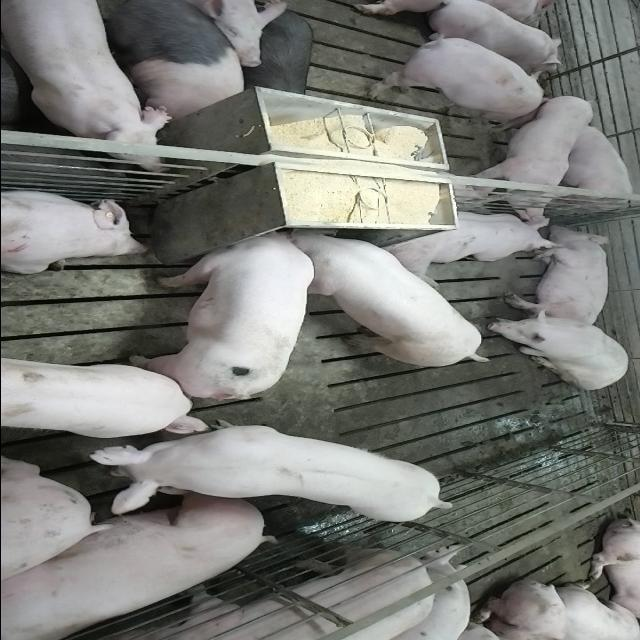Feeding: (128, 220, 314, 397), (283, 230, 497, 372)
Lateral_lying: (1, 475, 274, 636), (502, 224, 612, 328)
Sitting: (482, 310, 630, 390)
Standing: (1, 542, 442, 640), (66, 420, 450, 526), (0, 2, 175, 161), (82, 2, 248, 122), (0, 353, 198, 438), (464, 95, 592, 222), (373, 33, 545, 121), (237, 7, 315, 103)
Sternal_lying: (376, 208, 558, 280), (0, 185, 150, 272), (419, 1, 566, 72), (548, 122, 634, 212)
